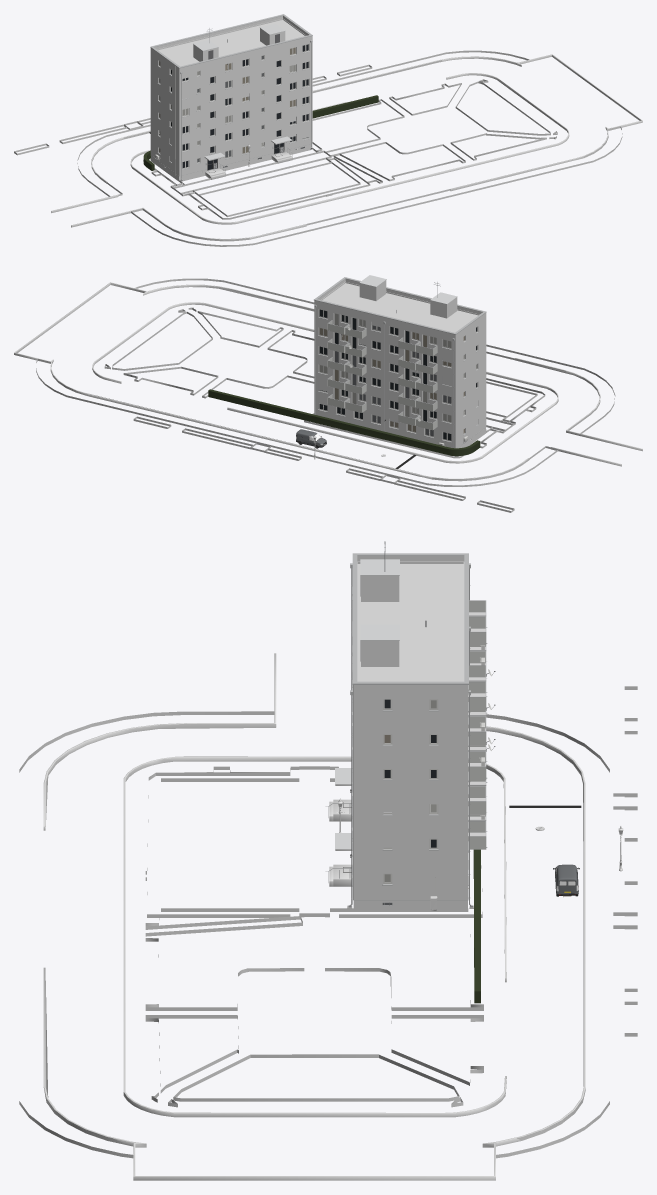
The model's file is cell_m1_0.lite.glb.
3 renders of one model, top to bottom at view 1: azimuth 30°, elevation 25°; view 2: azimuth 150°, elevation 25°; view 3: azimuth 270°, elevation 25°, orthographic. The views are drawn at different scales.
Parts seen in each view (by area): view 1: cell_m1_0; view 2: cell_m1_0; view 3: cell_m1_0.
Part boxes in pixels (left/top/right/bottom): cell_m1_0: left=14, top=14, right=642, bottom=246; cell_m1_0: left=14, top=275, right=642, bottom=512; cell_m1_0: left=19, top=541, right=637, bottom=1180.
Size of the model in its own units: 96.64 by 23.97 by 48.24.
